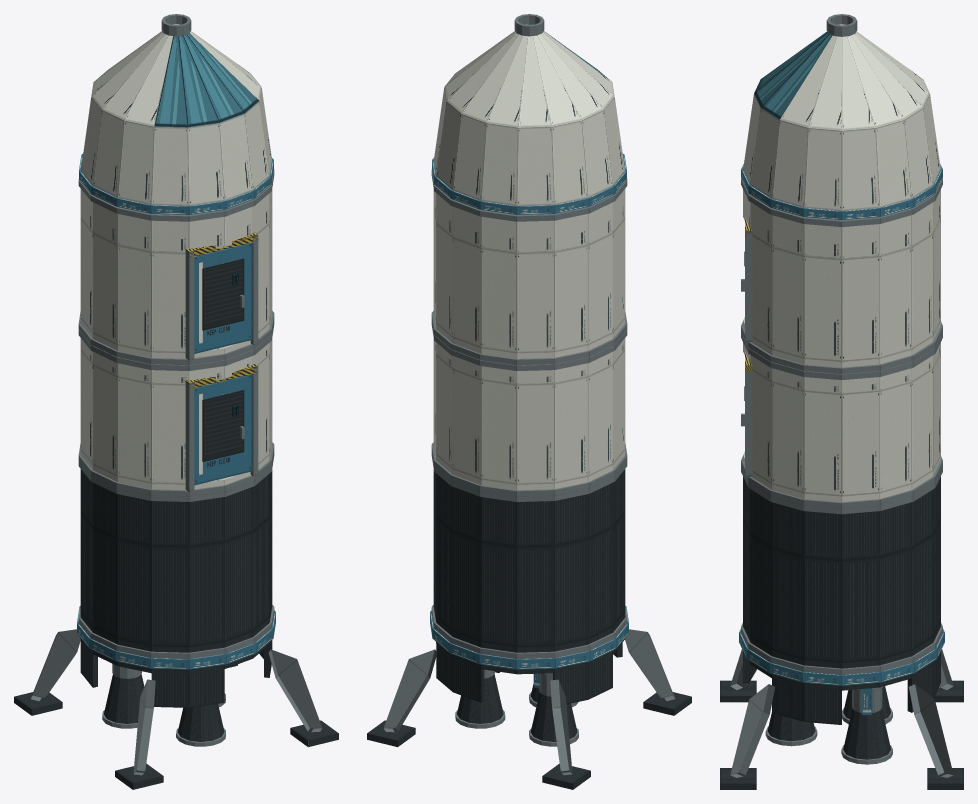
Rendered from rocket-wayfarer.glb.
3 views of the same model, side by side, from view 1: azimuth 30°, elevation 25°; view 2: azimuth 150°, elevation 25°; view 3: azimuth 270°, elevation 25° (orthographic). The views are drawn at different scales.
Parts seen in each view (by area): view 1: 02_TankSection_hull, 05_CommandCapsule_hull, 04_PassengerCabin_hull, 03_ServiceBay_hull, Door leaf (×2), 05_CommandCapsule_glass, 04_PassengerCabin_frame, Door inset (×2), 03_ServiceBay_frame, 01_Propulsion_hull, 02_TankSection_frame, LEG_01_landing_leg (+8 smaller); view 2: 02_TankSection_hull, 04_PassengerCabin_hull, 05_CommandCapsule_hull, 03_ServiceBay_hull, 01_Propulsion_hull, 04_PassengerCabin_frame, 03_ServiceBay_frame, 02_TankSection_frame, LEG_02_landing_leg, 01_Propulsion_frame, LEG_04_landing_leg, LEG_03_landing_leg (+5 smaller); view 3: 02_TankSection_hull, 04_PassengerCabin_hull, 05_CommandCapsule_hull, 03_ServiceBay_hull, 04_PassengerCabin_frame, 03_ServiceBay_frame, 01_Propulsion_hull, 02_TankSection_frame, ENGINE_02_engine, 05_CommandCapsule_glass, LEG_01_landing_leg, LEG_02_landing_leg (+7 smaller).
Part boxes in pixels (<box>): 02_TankSection_hull: <box>80,469,272,652</box>; 05_CommandCapsule_hull: <box>81,24,271,205</box>; 04_PassengerCabin_hull: <box>80,189,272,358</box>; 03_ServiceBay_hull: <box>80,338,272,490</box>; Door leaf (×2): <box>194,242,252,485</box>; 05_CommandCapsule_glass: <box>154,33,258,127</box>; 04_PassengerCabin_frame: <box>78,169,274,365</box>; Door inset (×2): <box>202,258,244,461</box>; 03_ServiceBay_frame: <box>78,320,274,496</box>; 01_Propulsion_hull: <box>80,638,272,707</box>; 02_TankSection_frame: <box>78,451,274,658</box>; LEG_01_landing_leg: <box>268,649,338,747</box>; 02_TankSection_hull: <box>433,469,625,652</box>; 04_PassengerCabin_hull: <box>433,189,625,358</box>; 05_CommandCapsule_hull: <box>434,24,624,205</box>; 03_ServiceBay_hull: <box>433,338,625,490</box>; 01_Propulsion_hull: <box>436,642,622,704</box>; 04_PassengerCabin_frame: <box>431,169,627,365</box>; 03_ServiceBay_frame: <box>431,320,627,496</box>; 02_TankSection_frame: <box>431,451,627,658</box>; LEG_02_landing_leg: <box>367,649,437,747</box>; 01_Propulsion_frame: <box>430,606,628,669</box>; LEG_04_landing_leg: <box>625,629,691,715</box>; LEG_03_landing_leg: <box>542,679,590,789</box>; 02_TankSection_hull: <box>743,476,940,668</box>; 04_PassengerCabin_hull: <box>743,189,940,367</box>; 05_CommandCapsule_hull: <box>743,24,940,210</box>; 03_ServiceBay_hull: <box>743,342,940,502</box>; 04_PassengerCabin_frame: <box>741,178,942,373</box>; 03_ServiceBay_frame: <box>741,332,942,508</box>; 01_Propulsion_hull: <box>743,651,940,724</box>; 02_TankSection_frame: <box>741,467,942,674</box>; ENGINE_02_engine: <box>843,686,890,759</box>; 05_CommandCapsule_glass: <box>754,31,832,119</box>; LEG_01_landing_leg: <box>720,684,775,789</box>; LEG_02_landing_leg: <box>908,684,963,789</box>.
Size of the model in its own units: 4.81 by 15.63 by 4.81.
1 material, 1 textured.
